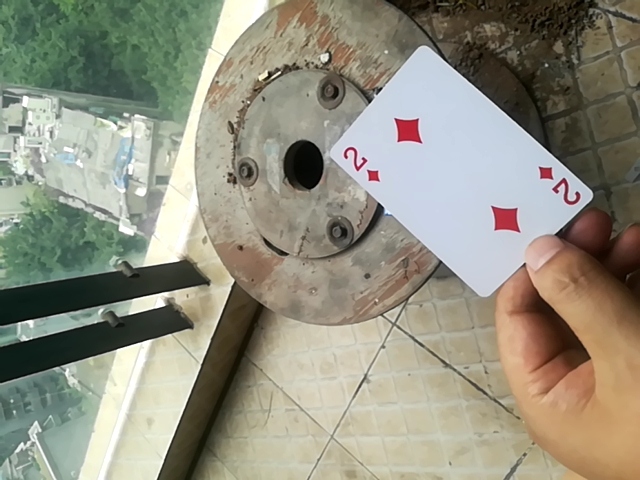fk 2: (316, 43, 589, 305)
